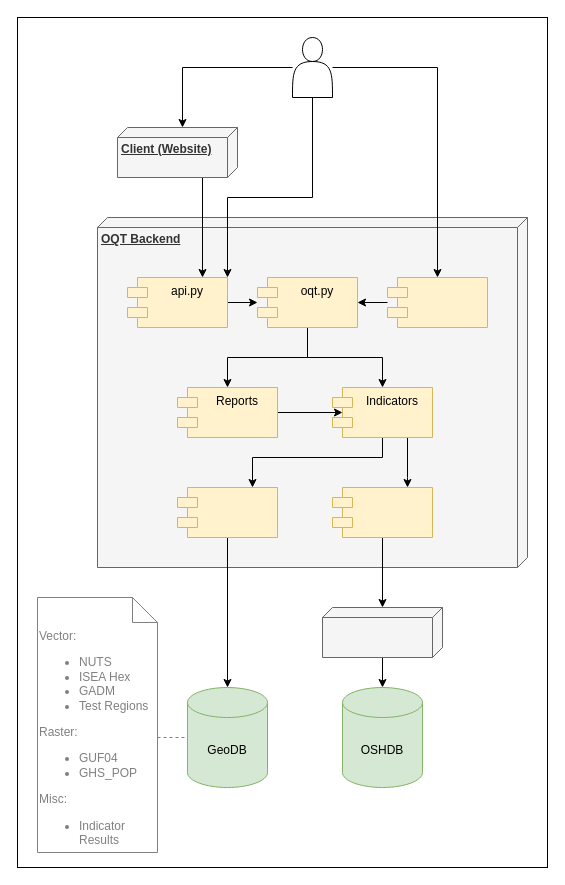
This 565x885 diagram has some shape labels left out. Here are the shapes that lost their labels. From the top down, the centre of each, then its label:
At (x=437, y=302): "cli.py".
At (x=227, y=512): "Geodatabase".
At (x=382, y=512): "Ohsome".
At (x=382, y=632): "ohsome API".
